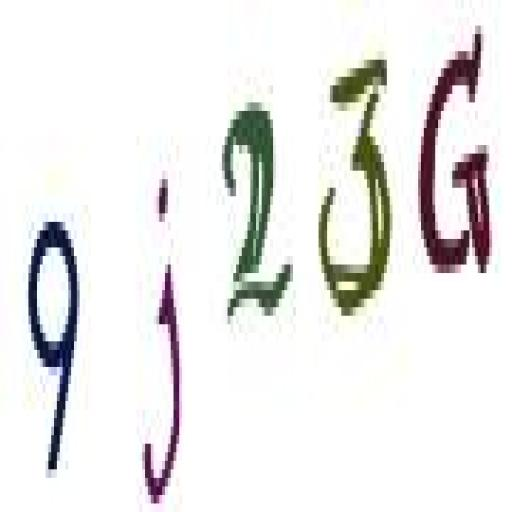2: (214, 80, 296, 342)
3: (311, 33, 393, 332)
9: (20, 206, 88, 497)
G: (416, 7, 502, 304)
j: (131, 154, 188, 512)
